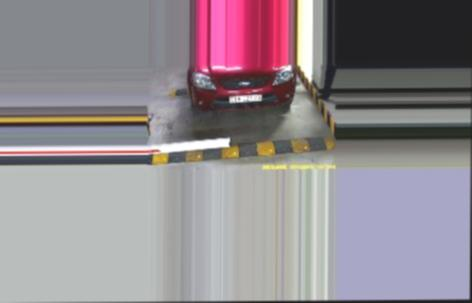License_Plate: (230, 91, 264, 105)
